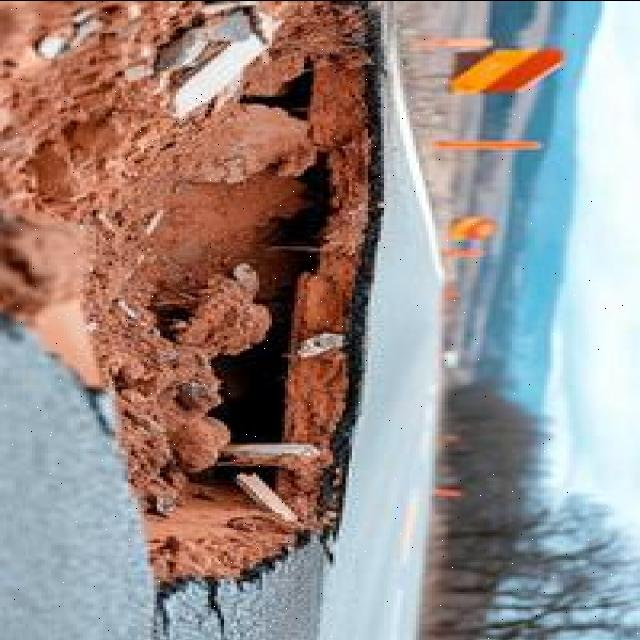road collapse: (0, 0, 600, 606)
